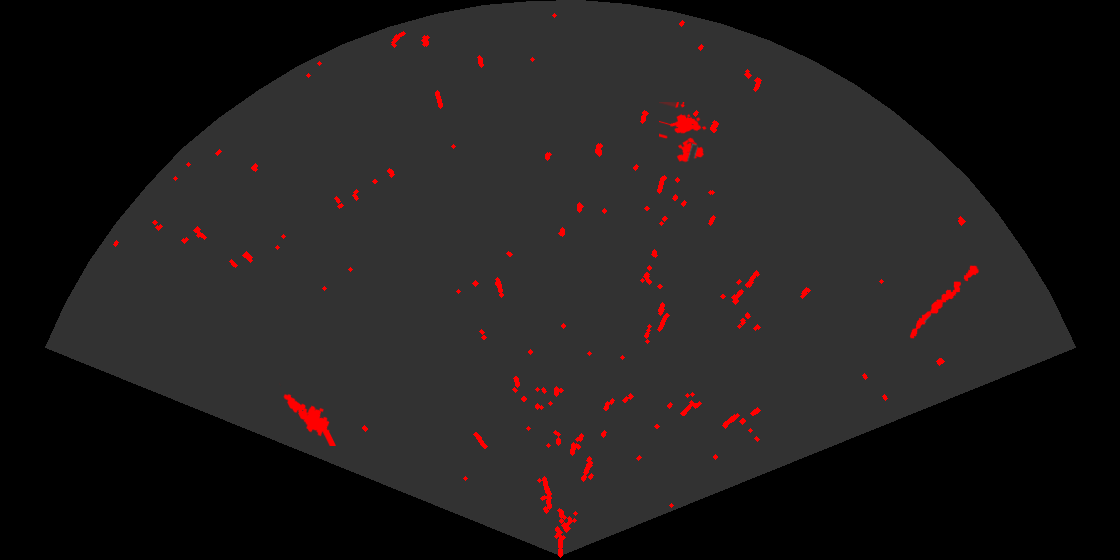cage: (659, 102, 708, 164)
chain: (908, 264, 981, 340)
frogman: (279, 382, 337, 446)
